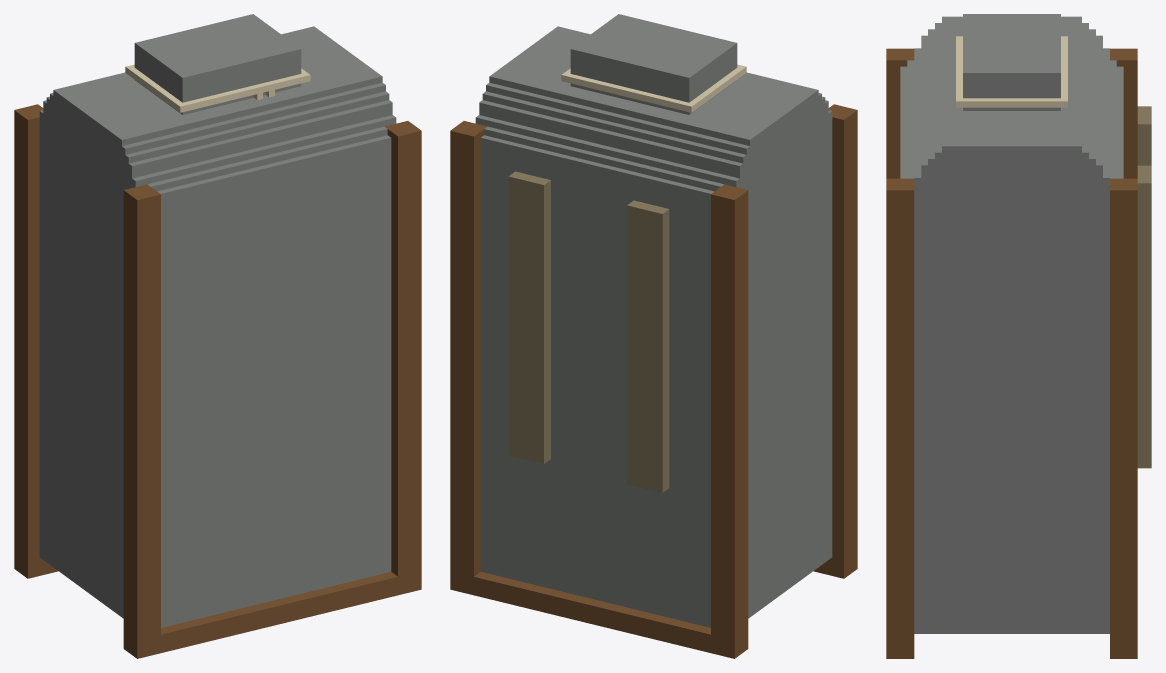
File: bigtrapper_pack.glb
The picture shows the model from 3 angles, left to right: view 1: azimuth 30°, elevation 25°; view 2: azimuth 150°, elevation 25°; view 3: azimuth 270°, elevation 25°; orthographic projection. The views are drawn at different scales.
Parts seen in each view (by area): view 1: bigtrapper_pack:compound; view 2: bigtrapper_pack:compound; view 3: bigtrapper_pack:compound.
Boxes of the visible parts, bbox=[...] form: bigtrapper_pack:compound: bbox=[14, 14, 421, 658]; bigtrapper_pack:compound: bbox=[450, 14, 857, 658]; bigtrapper_pack:compound: bbox=[886, 14, 1151, 658].
Bounding box in the file's own units: 0.48 × 0.86 × 0.38.
